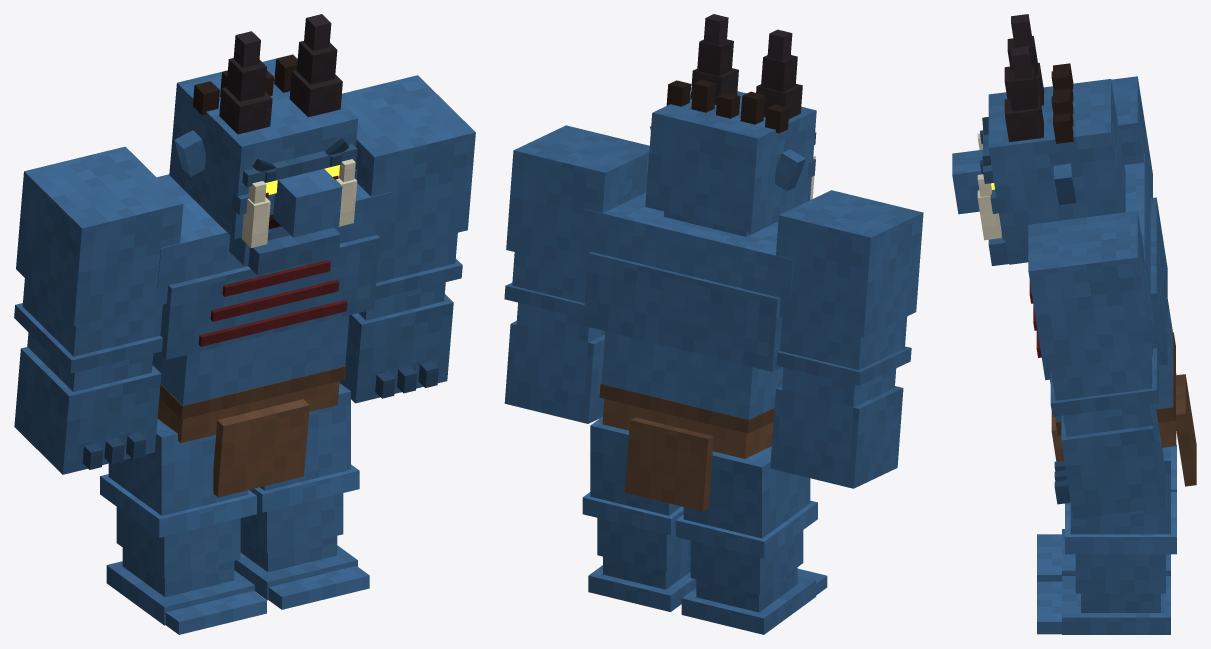
The model's file is ogre_base_v3_evo1.glb.
The picture shows the model from 3 angles, left to right: view 1: azimuth 30°, elevation 25°; view 2: azimuth 150°, elevation 25°; view 3: azimuth 270°, elevation 25°; orthographic projection. The views are drawn at different scales.
Visible parts, largest first — view 1: ArmR, Torso, Head, ArmL, LegR, LegL; view 2: Torso, ArmR, ArmL, Head, LegR, LegL; view 3: ArmL, Head, LegL, Torso, ArmR, LegR.
Part boxes in pixels (box(x1,y1,x2,y2)): ArmR: box(14, 146, 183, 474); Torso: box(152, 174, 390, 497); Head: box(169, 14, 358, 275); ArmL: box(339, 75, 475, 403); LegR: box(100, 419, 266, 634); LegL: box(234, 383, 369, 609); Torso: box(581, 192, 793, 511); ArmR: box(770, 190, 923, 488); ArmL: box(504, 125, 649, 423); Head: box(645, 14, 816, 236); LegR: box(675, 446, 827, 634); LegL: box(582, 416, 696, 611); ArmL: box(1028, 211, 1164, 518); Head: box(952, 14, 1125, 265); LegL: box(1037, 446, 1176, 634); Torso: box(1029, 153, 1196, 500); ArmR: box(1111, 76, 1152, 197); LegR: box(1037, 444, 1176, 581).
Size of the model in its own units: 1.46 by 2.09 by 0.8306.
Materials: 26 (26 with a texture image).
